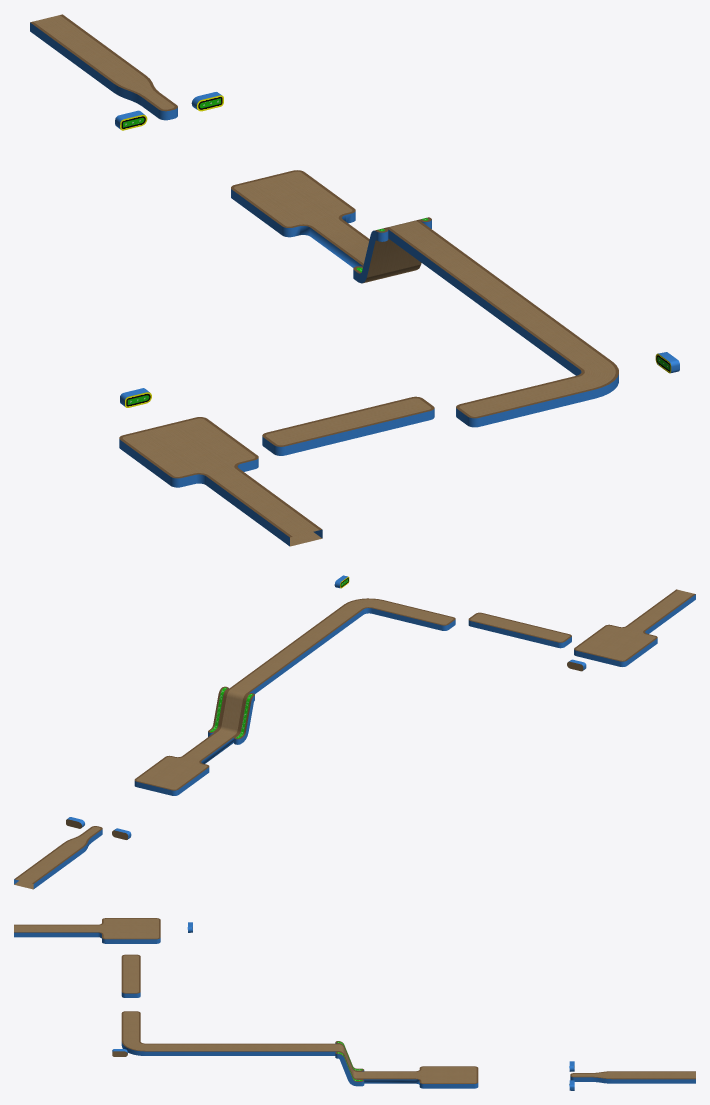
File: ramp_11.FBX
3 renders of one model, top to bottom at view 1: azimuth 30°, elevation 25°; view 2: azimuth 150°, elevation 25°; view 3: azimuth 270°, elevation 25°, orthographic. The views are drawn at different scales.
Visible parts, largest first — view 1: ramp_11; view 2: ramp_11; view 3: ramp_11.
Boxes of the visible parts, x1,y1,x2,y2 form: ramp_11: (30, 14, 679, 546); ramp_11: (14, 575, 695, 889); ramp_11: (14, 918, 695, 1090).
Bounding box in the file's own units: 7128 × 1410 × 16290.
5 materials, 5 textured.
